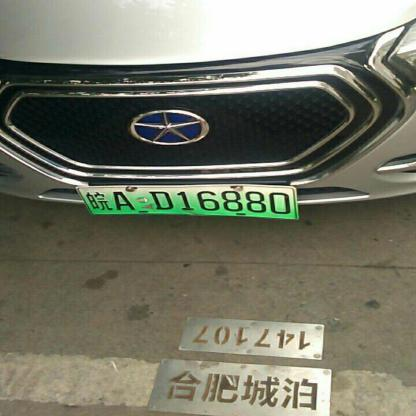lp: (76, 185, 298, 219)
